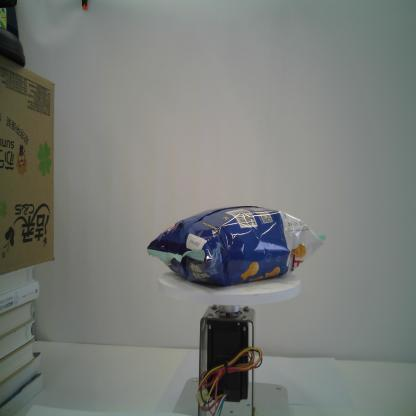Puffed Food: (146, 204, 326, 286)
